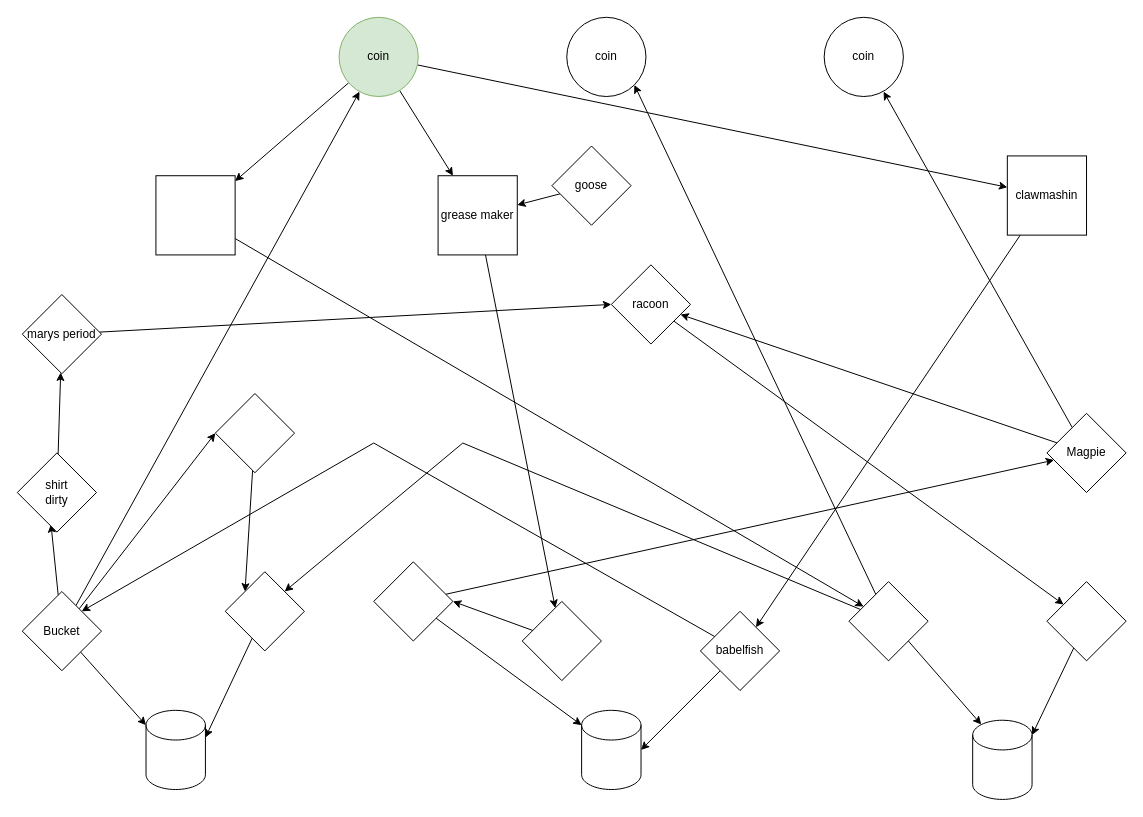
The diagram is 1143 pixels wide and 817 high, and some of its shapes have lost their labels. The centre of each missing label's shape, as x and y in pixels:
bucketfull: [254,433]
grease: [561,640]
key: [1086,621]
Snack: [888,621]
spine: [413,601]
vending mashine: [195,215]
